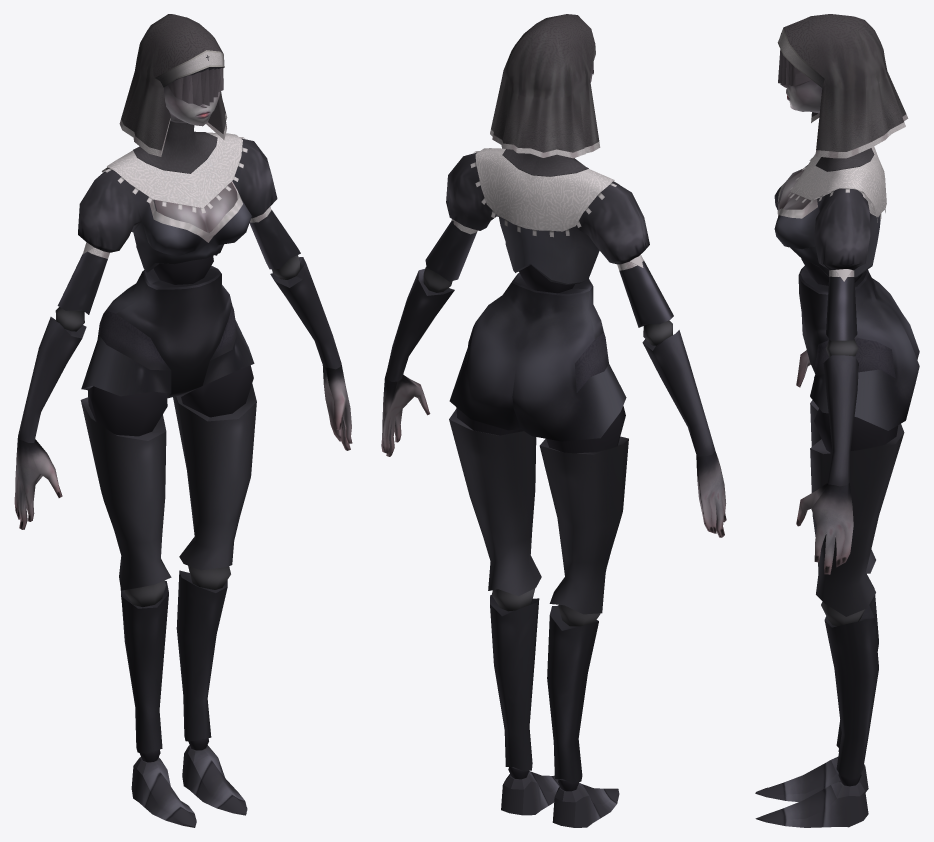
File: ball-joint-doll__low_poly_character.glb
The picture shows the model from 3 angles, left to right: view 1: azimuth 30°, elevation 25°; view 2: azimuth 150°, elevation 25°; view 3: azimuth 270°, elevation 25°; orthographic projection. The views are drawn at different scales.
Parts seen in each view (by area): view 1: Character_Doll; view 2: Character_Doll; view 3: Character_Doll.
Boxes of the visible parts, box(x1,y1,x2,y2) form: Character_Doll: box(14, 14, 352, 827); Character_Doll: box(381, 14, 726, 827); Character_Doll: box(755, 14, 919, 827).
Bounding box in the file's own units: 0.0574 × 0.1294 × 0.0243.
1 material, 1 textured.
